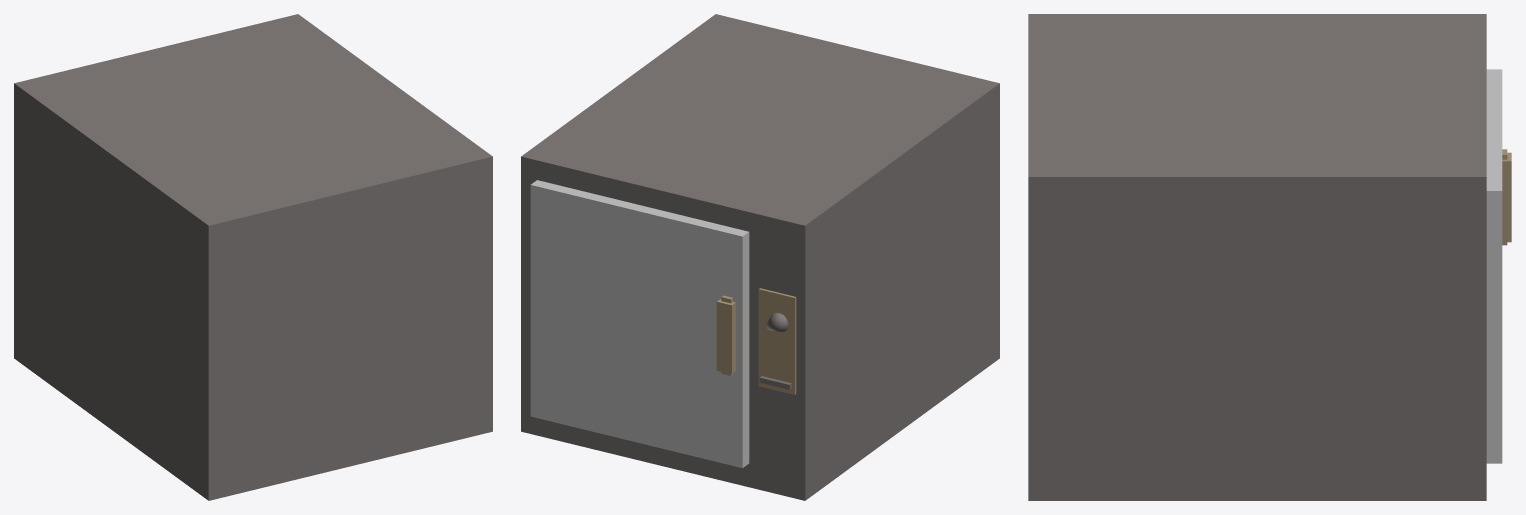
File: SM_Frig_02.fbx
3 views of the same model, side by side, from view 1: azimuth 30°, elevation 25°; view 2: azimuth 150°, elevation 25°; view 3: azimuth 270°, elevation 25° (orthographic). The views are drawn at different scales.
Parts seen in each view (by area): view 1: SM_Frig_02; view 2: SM_Frig_02; view 3: SM_Frig_02.
Boxes of the visible parts, bbox=[...] form: SM_Frig_02: bbox=[14, 14, 492, 500]; SM_Frig_02: bbox=[521, 14, 999, 500]; SM_Frig_02: bbox=[1028, 14, 1511, 500].
Size of the model in its own units: 73.51 by 68.04 by 92.02.
Materials: 1 (1 with a texture image).
